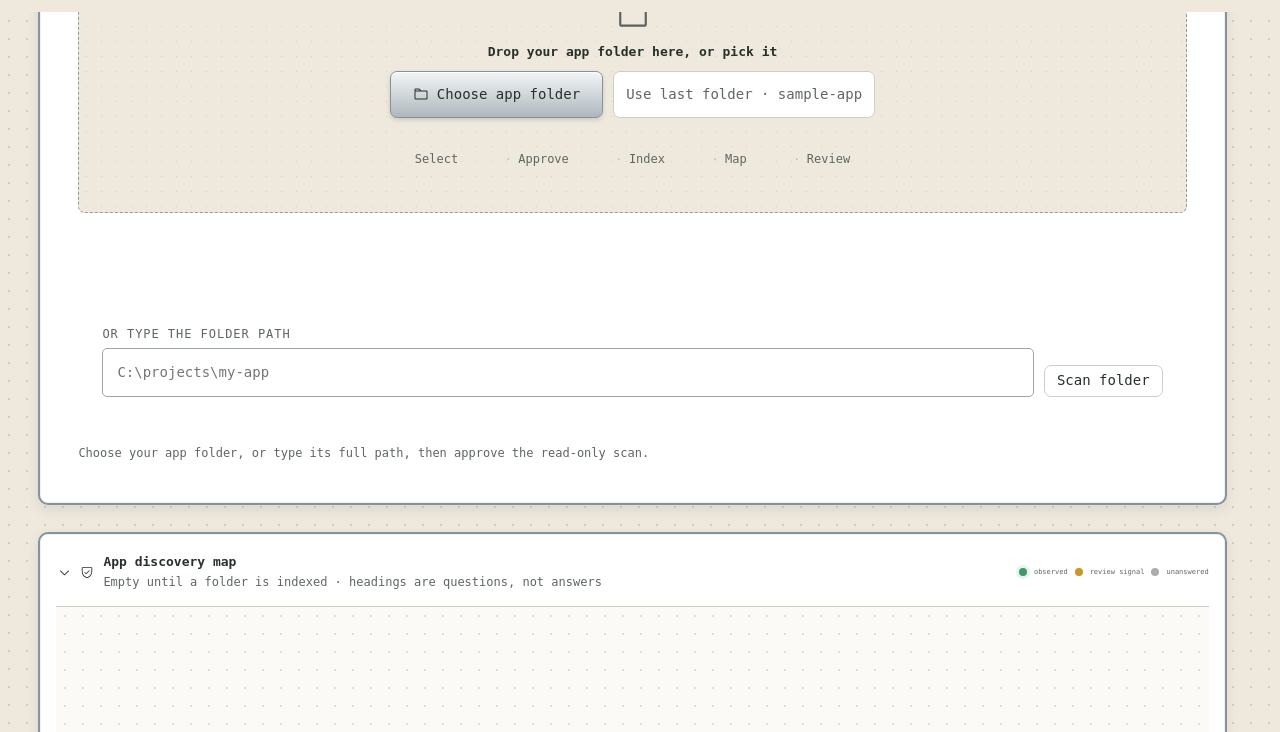
Test: Structure workspace intake and connection map › static mode refuses to pretend a local path was registered
(page scrolled)
Type "C:\\projects\\sample-app" into the field with placeholder "C:\\projects\\my-app" at {"x": 568, "y": 372}, box [102,348,1034,397]
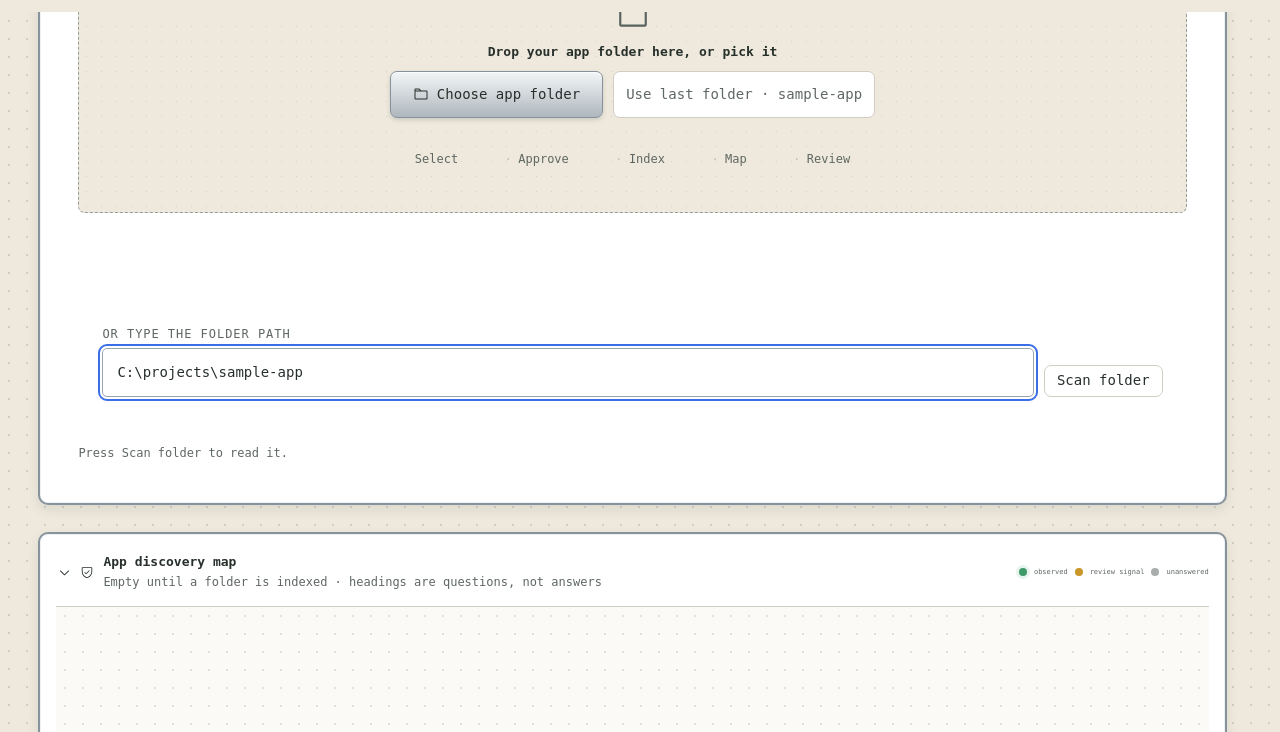
Click the button "Scan folder" at {"x": 1103, "y": 381}, box [1044,365,1163,397]
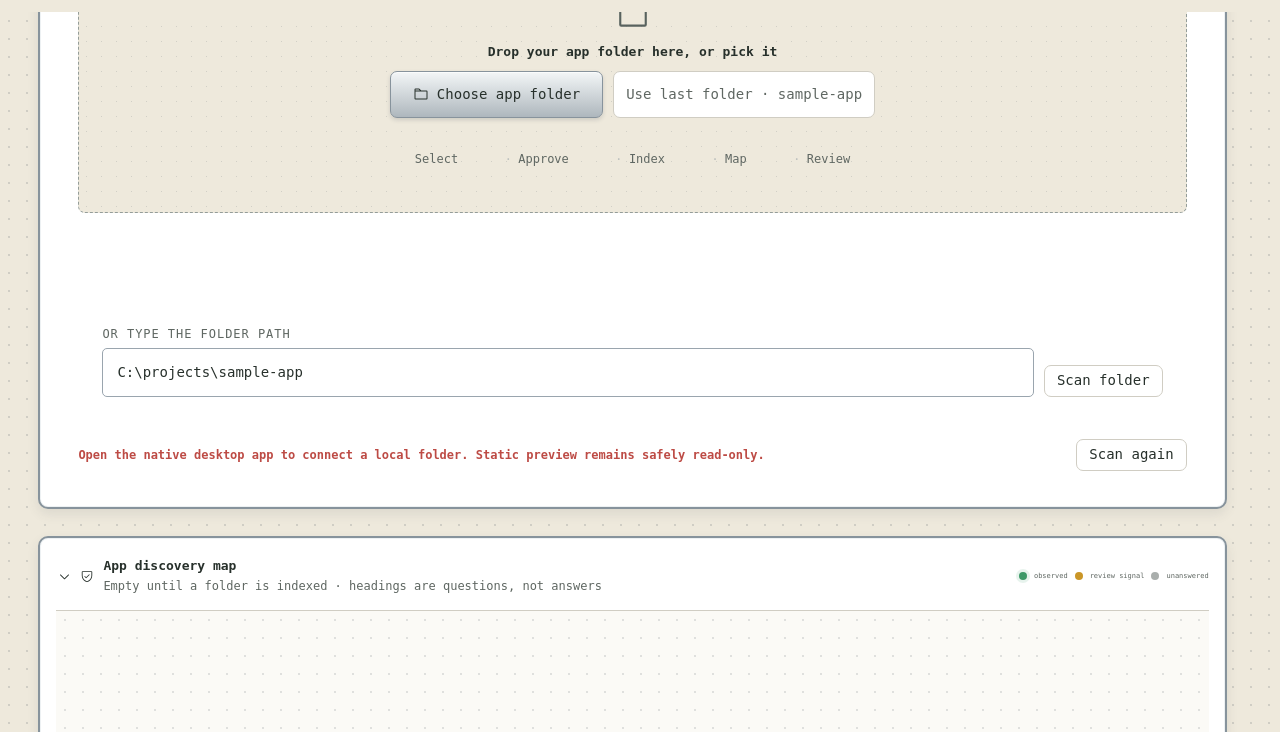
Expected: the text "Open the native desktop app" is shown, [78,448,765,462]
